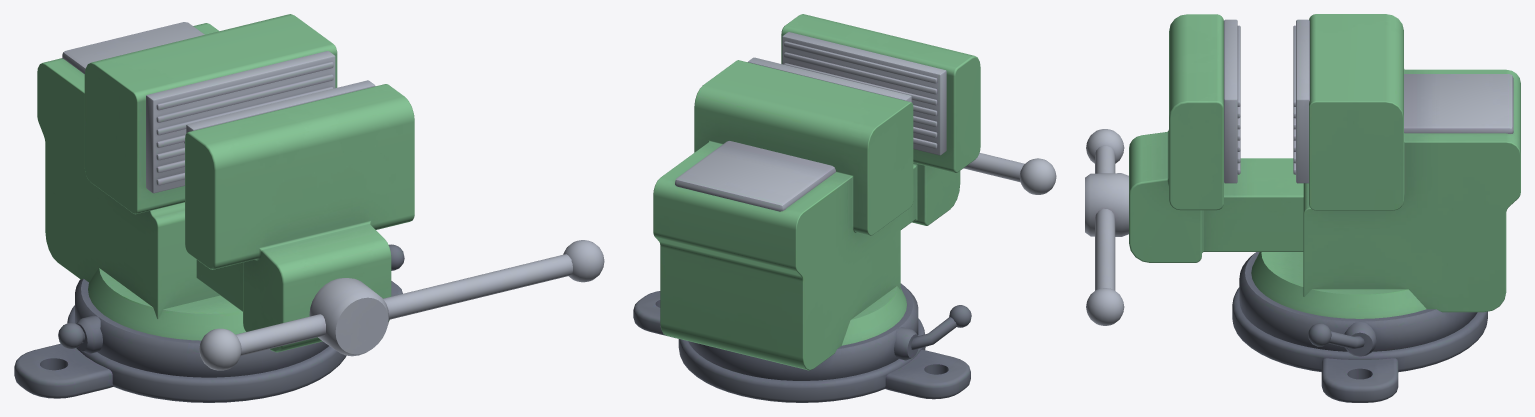
The model's file is bench-vise.glb.
The picture shows the model from 3 angles, left to right: view 1: azimuth 30°, elevation 25°; view 2: azimuth 150°, elevation 25°; view 3: azimuth 270°, elevation 25°; orthographic projection. The views are drawn at different scales.
Visible parts, largest first — view 1: bench-vise_body, bench-vise_sliding_jaw, bench-vise_spindle; view 2: bench-vise_body, bench-vise_sliding_jaw, bench-vise_spindle; view 3: bench-vise_body, bench-vise_sliding_jaw, bench-vise_spindle.
Part boxes in pixels (x1,y1,x2,y2): bench-vise_body: [14, 14, 404, 402]; bench-vise_sliding_jaw: [185, 80, 414, 352]; bench-vise_spindle: [199, 240, 604, 370]; bench-vise_body: [633, 57, 971, 402]; bench-vise_sliding_jaw: [781, 14, 980, 229]; bench-vise_spindle: [963, 153, 1056, 194]; bench-vise_body: [1232, 14, 1520, 402]; bench-vise_sliding_jaw: [1129, 14, 1303, 262]; bench-vise_spindle: [1085, 129, 1128, 325].
Bounding box in the file's own units: 0.2483 × 0.16 × 0.2385.
3 materials, 3 textured.
